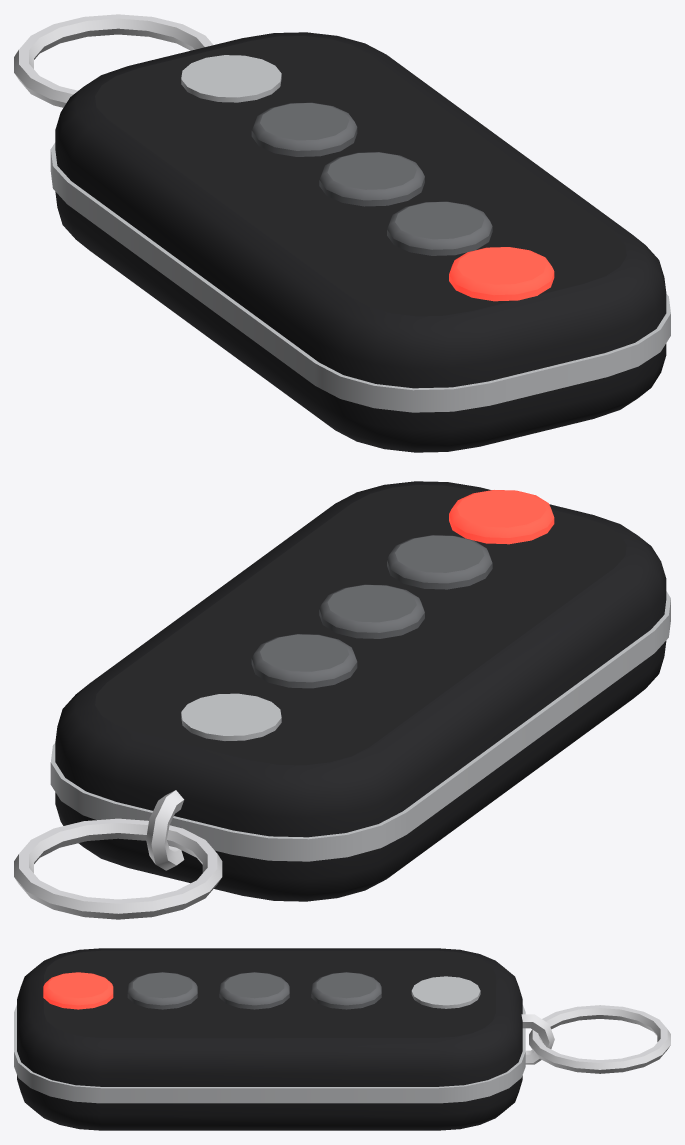
File: nz_keyfob_generic.glb
3 views of the same model, one above another, from view 1: azimuth 30°, elevation 25°; view 2: azimuth 150°, elevation 25°; view 3: azimuth 270°, elevation 25° (orthographic). The views are drawn at different scales.
Parts seen in each view (by area): view 1: nz_keyfob_generic; view 2: nz_keyfob_generic; view 3: nz_keyfob_generic.
Part boxes in pixels (bbox=[...]): nz_keyfob_generic: bbox=[14, 14, 670, 452]; nz_keyfob_generic: bbox=[14, 481, 670, 919]; nz_keyfob_generic: bbox=[14, 948, 670, 1130].
Bounding box in the file's own units: 0.0348 × 0.0143 × 0.0858.
